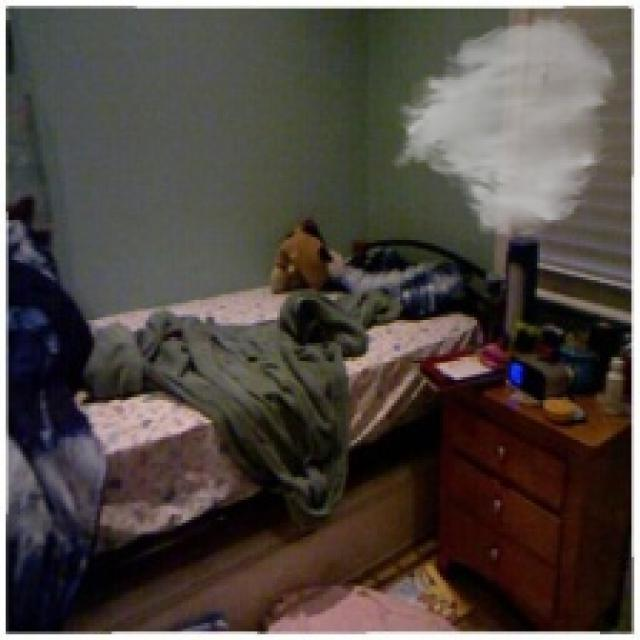Smoke: (388, 14, 620, 240)
